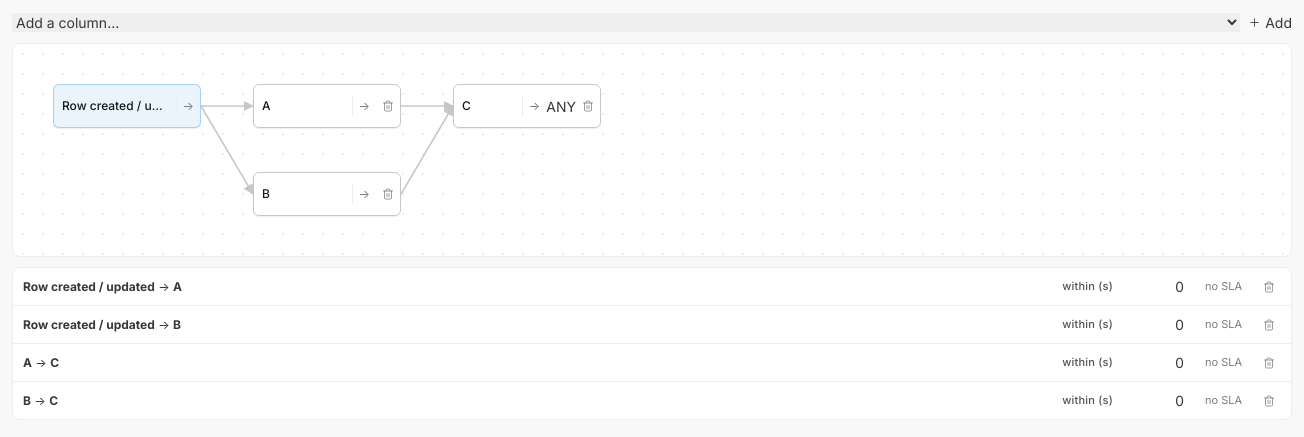
Test: ProcessCanvas — AND-join (fan-in) › renders the ∧ AND marker on both converging legs once ALL is set
Click the button with test id "canvas-join-toggle-c". click: (561, 106)
box: [546,96,576,116]
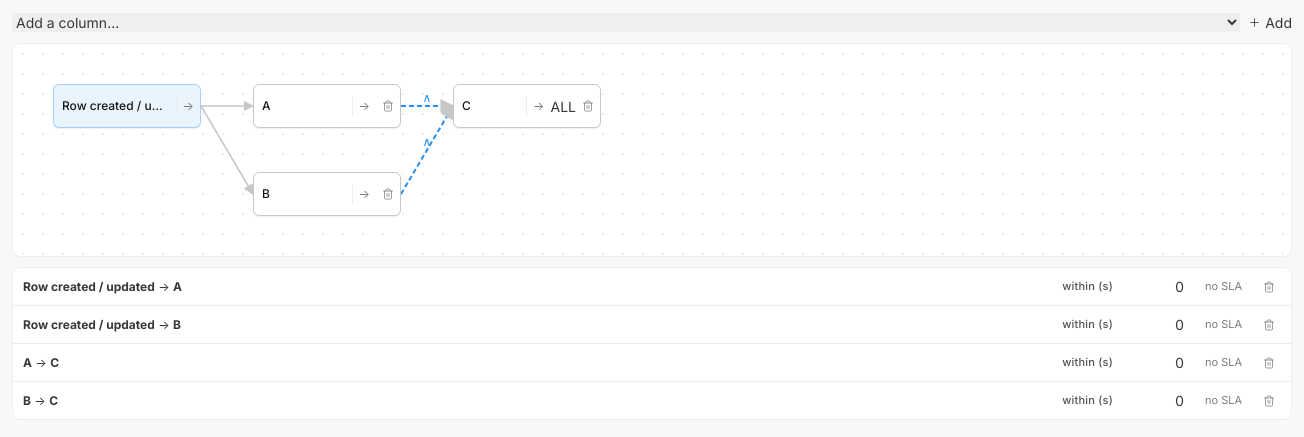
Expected: the element with test id "canvas-edge-join-a-c" is shown, [423,90,431,105]
Expected: the button with test id "canvas-join-toggle-c" reads "ALL", [550,96,576,116]
